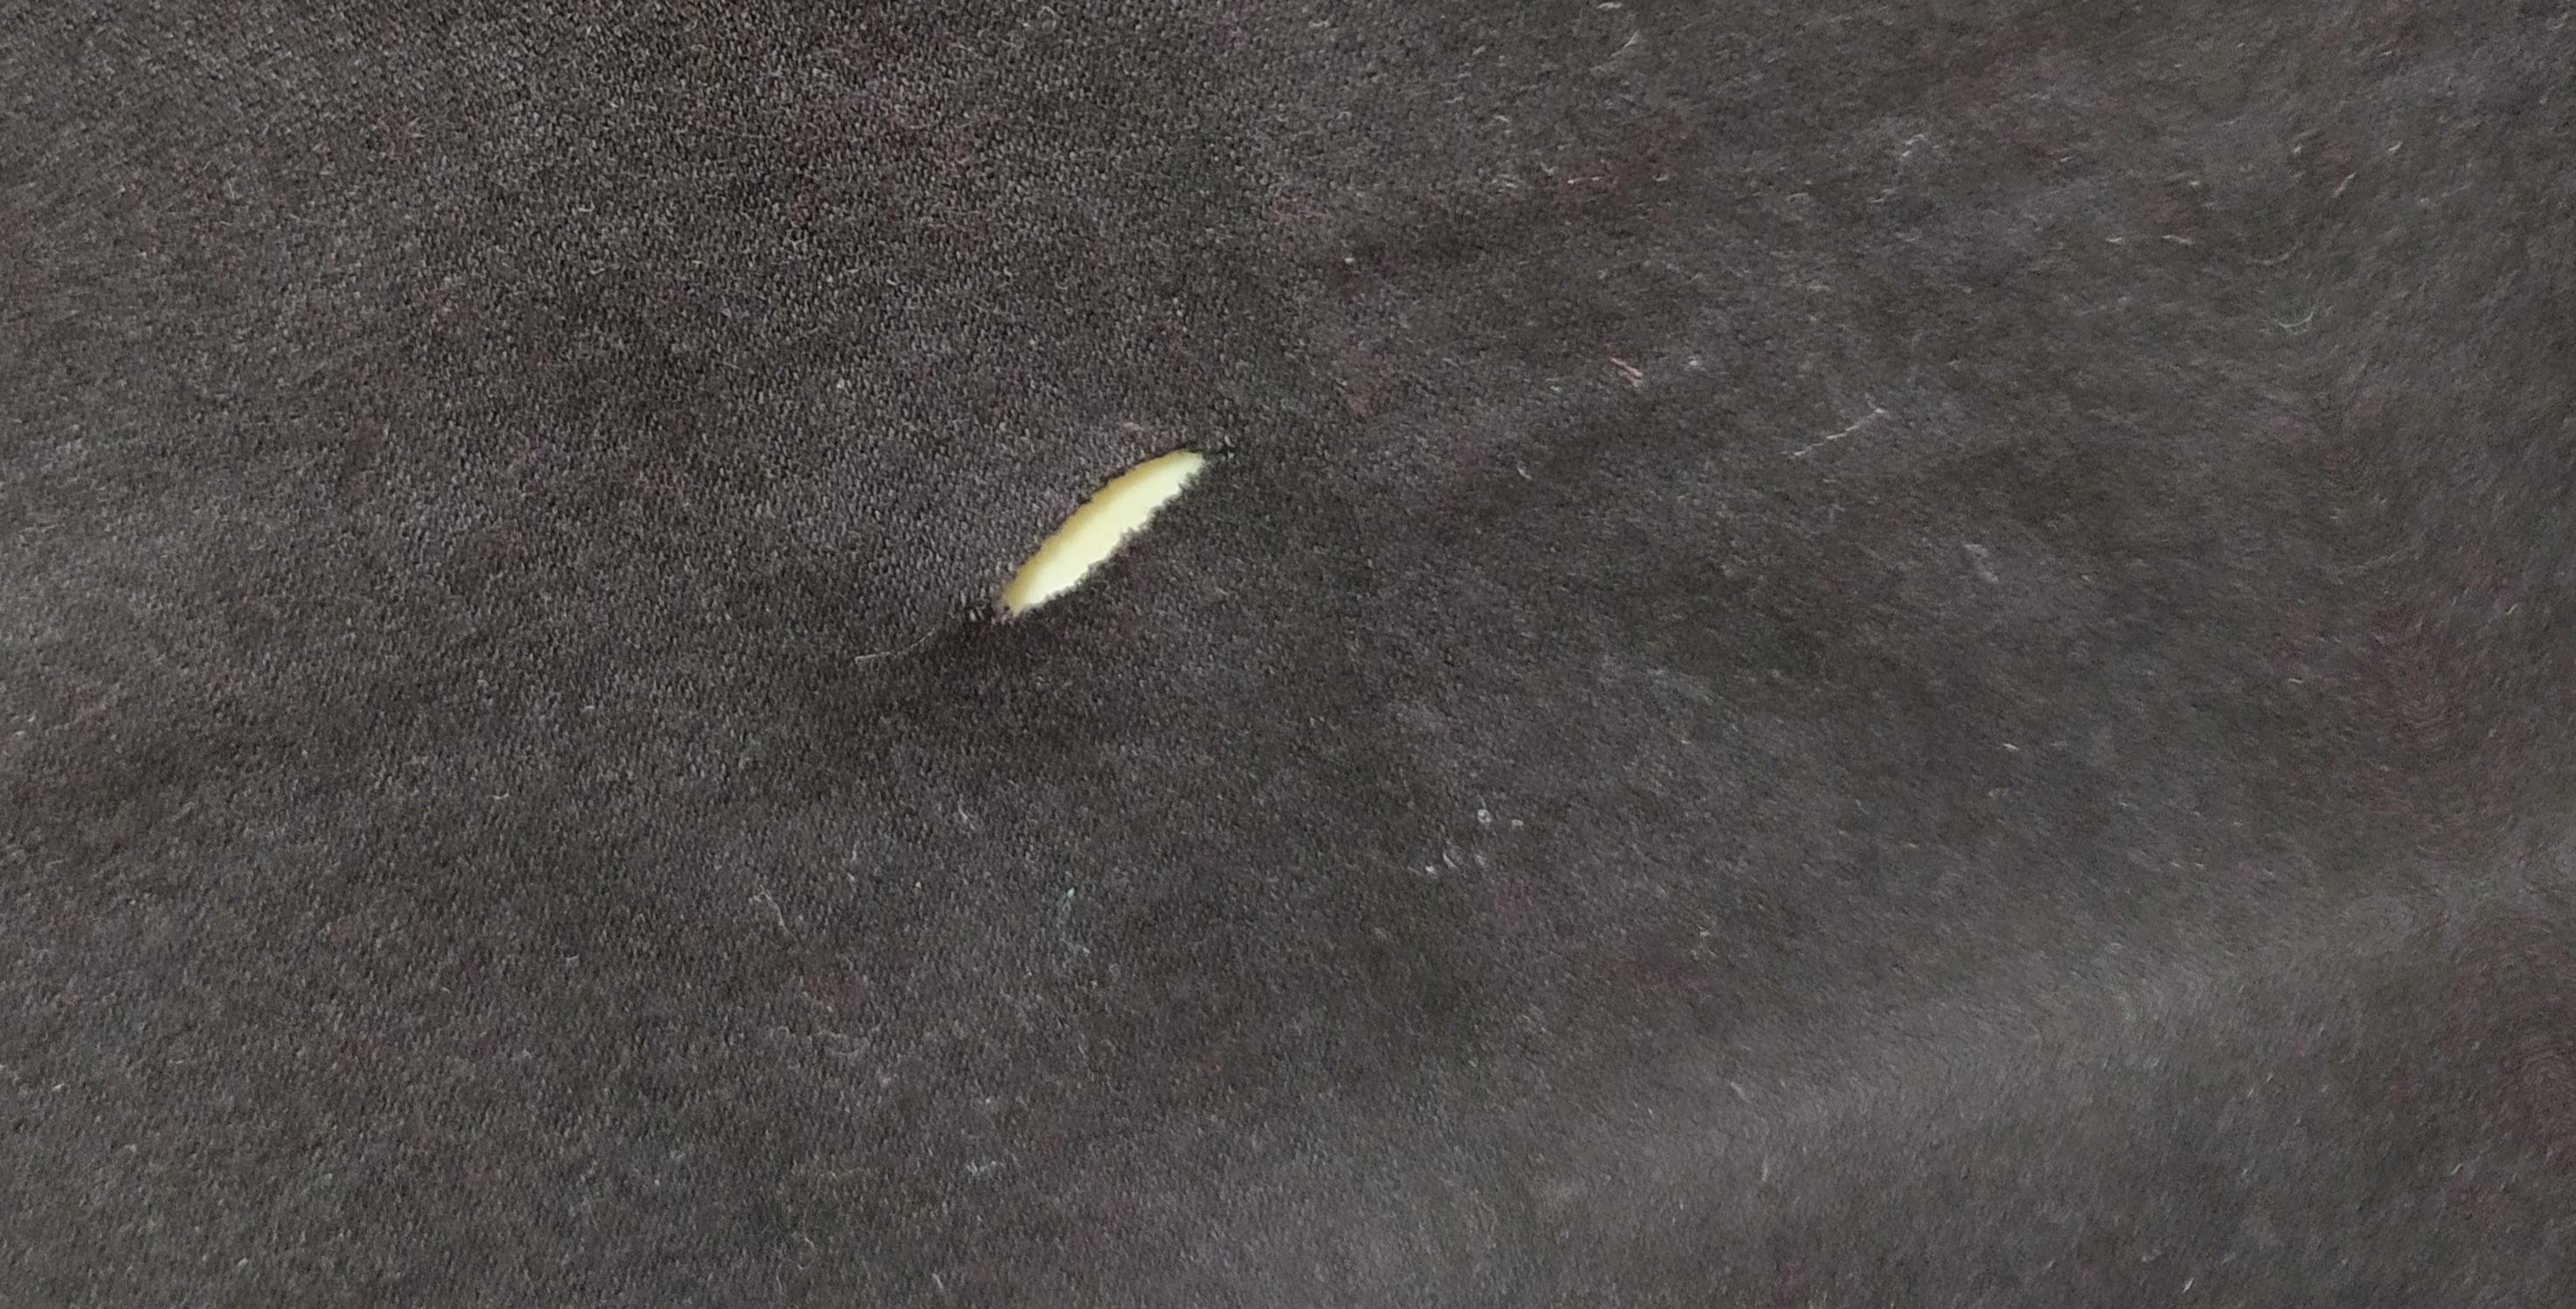hole: (978, 431, 1230, 653)
